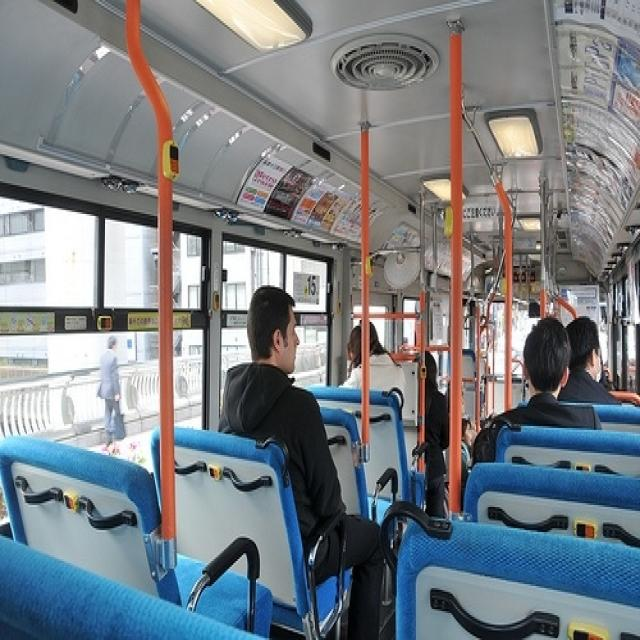Persona: (220, 287, 379, 638), (508, 316, 589, 424), (413, 351, 447, 517), (559, 316, 620, 401), (369, 322, 403, 411), (343, 324, 360, 387), (461, 418, 475, 470)
